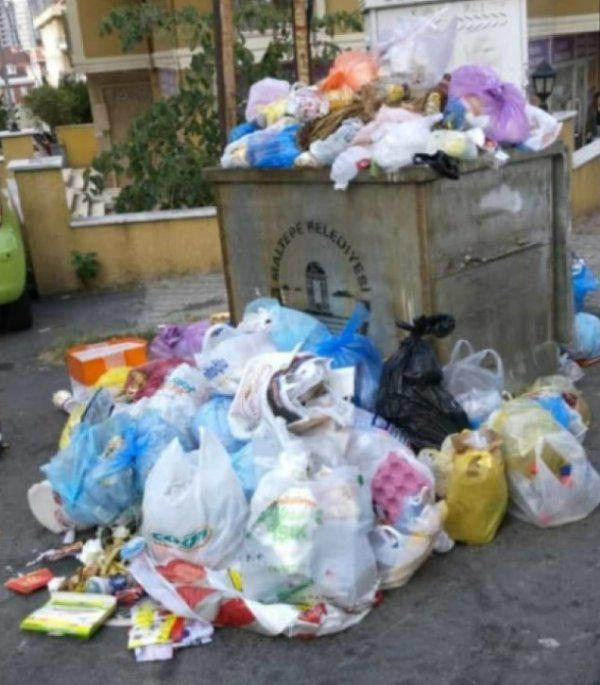Container: (203, 170, 573, 383), (212, 167, 574, 312)
Garbage: (66, 325, 521, 658), (246, 35, 562, 159), (18, 585, 206, 680), (504, 403, 598, 565), (146, 443, 256, 561), (371, 306, 469, 433), (45, 412, 141, 536), (232, 355, 348, 447), (311, 552, 419, 649), (184, 312, 292, 405), (353, 422, 440, 529), (2, 517, 135, 578), (258, 456, 323, 565), (455, 437, 510, 565), (453, 72, 536, 143), (42, 339, 144, 377), (369, 69, 430, 117), (145, 389, 214, 428), (572, 286, 600, 374), (145, 322, 199, 362), (332, 146, 366, 193), (407, 156, 455, 187), (528, 111, 569, 143), (259, 120, 294, 150)
